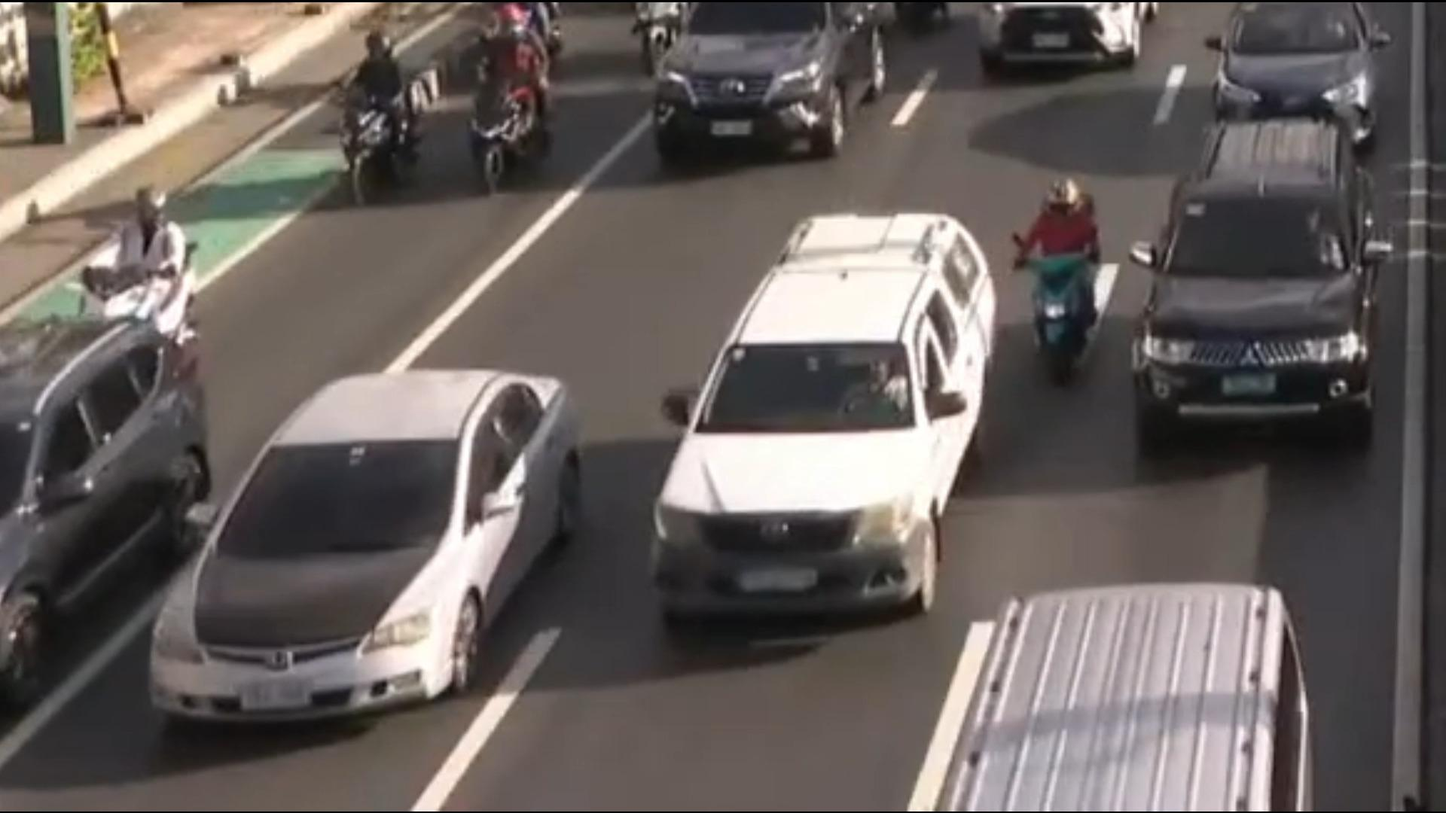Motorcycle: (305, 2, 469, 255), (57, 177, 279, 360), (994, 157, 1134, 414), (411, 0, 571, 212)
SUV: (617, 202, 1010, 622), (1097, 102, 1409, 494), (0, 311, 228, 696), (622, 0, 914, 190)
Sedan: (150, 343, 622, 770)
Van: (894, 563, 1345, 813)
